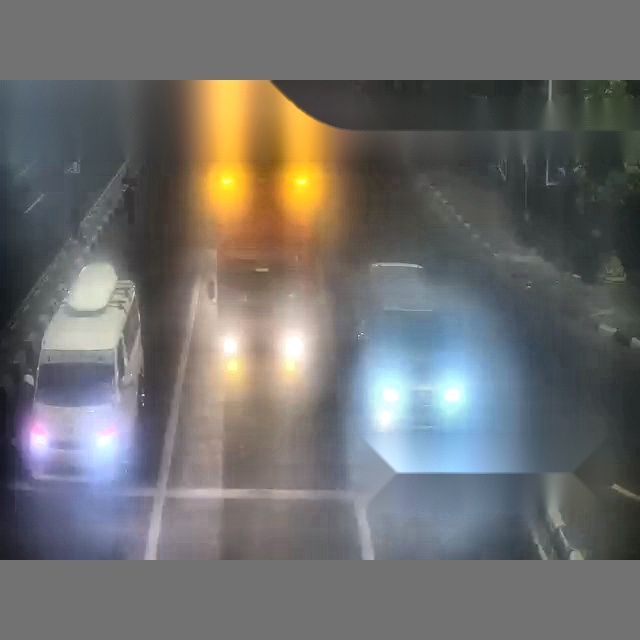Mobil: (25, 313, 142, 494)
